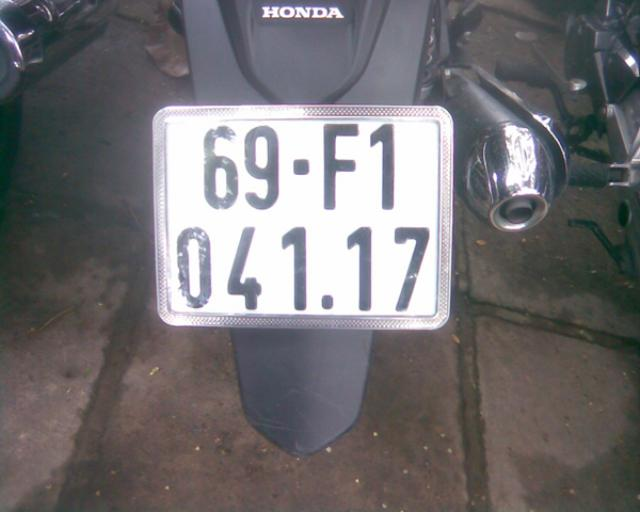plate: (150, 104, 446, 328)
